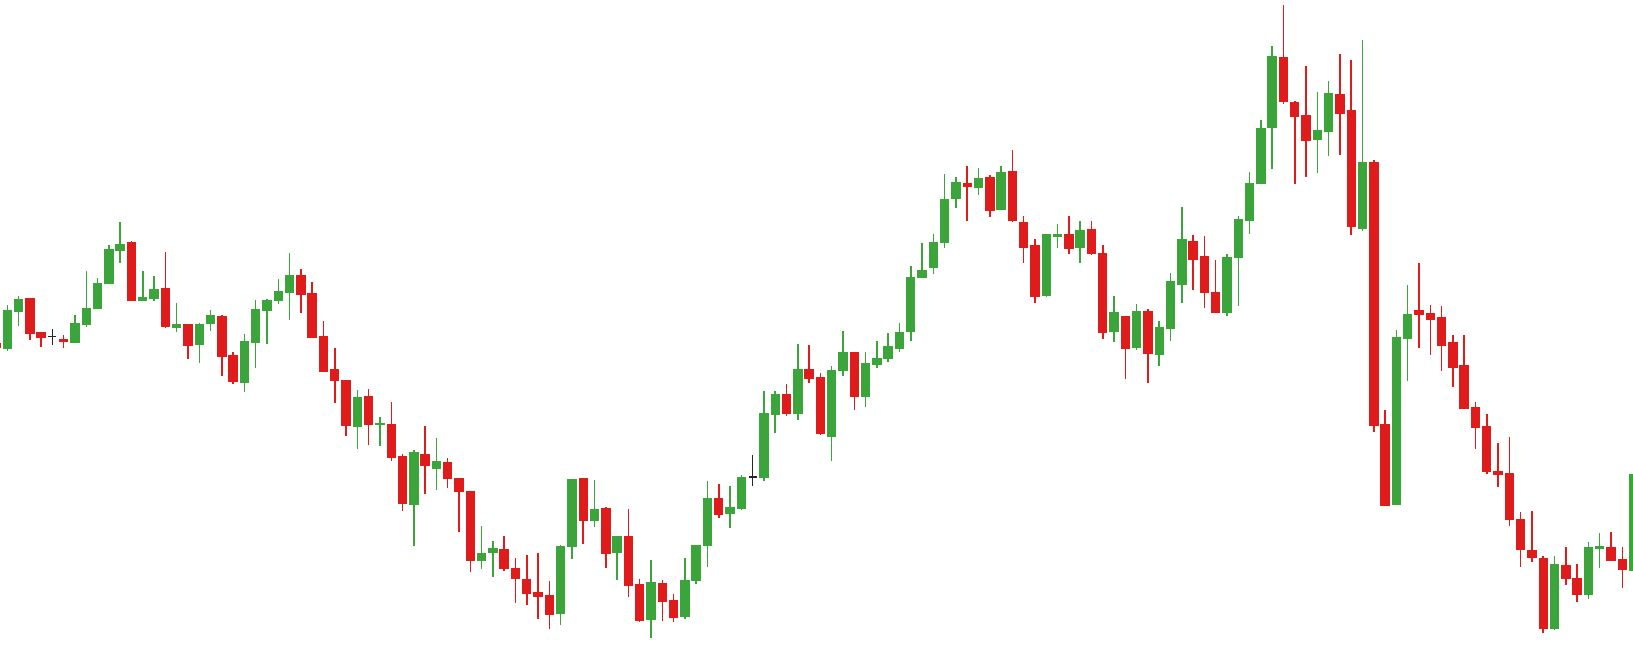buy: (544, 528, 659, 639), (771, 365, 838, 463)
sell: (159, 250, 306, 348)
